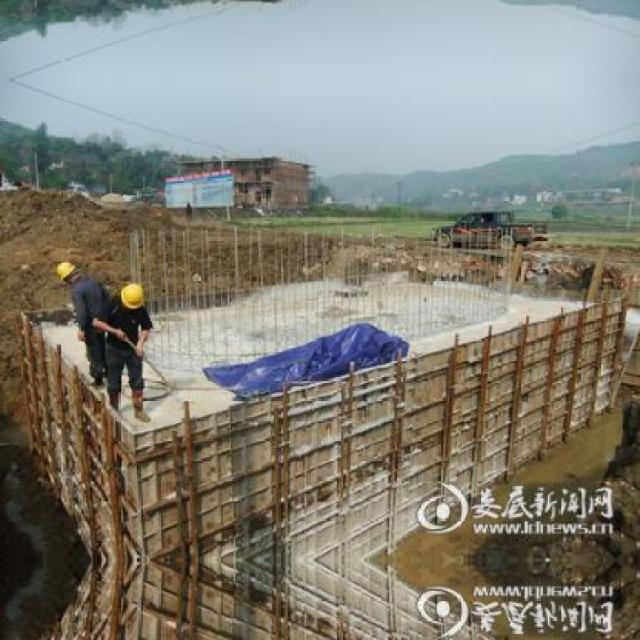helmet: (115, 281, 147, 316), (53, 258, 82, 290)
